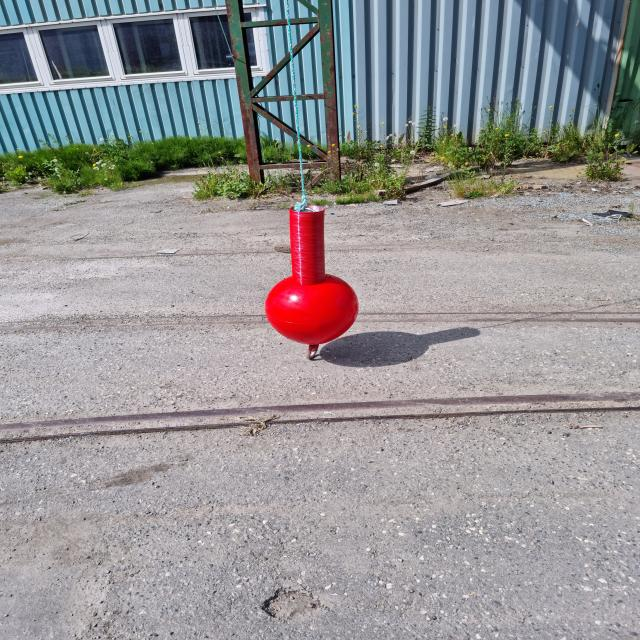red: (267, 207, 358, 346)
